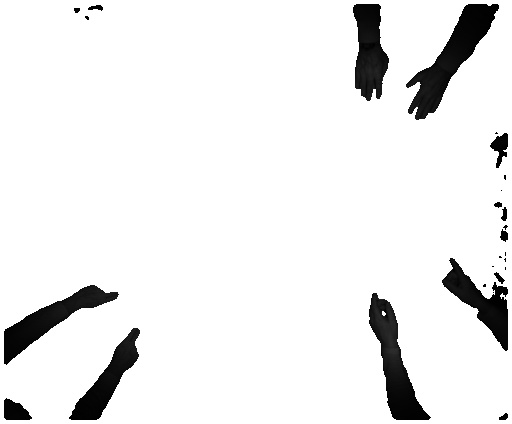hand: (400, 67, 453, 119), (352, 48, 391, 103), (440, 256, 480, 307), (368, 288, 399, 342), (74, 280, 119, 315), (113, 328, 143, 375)
